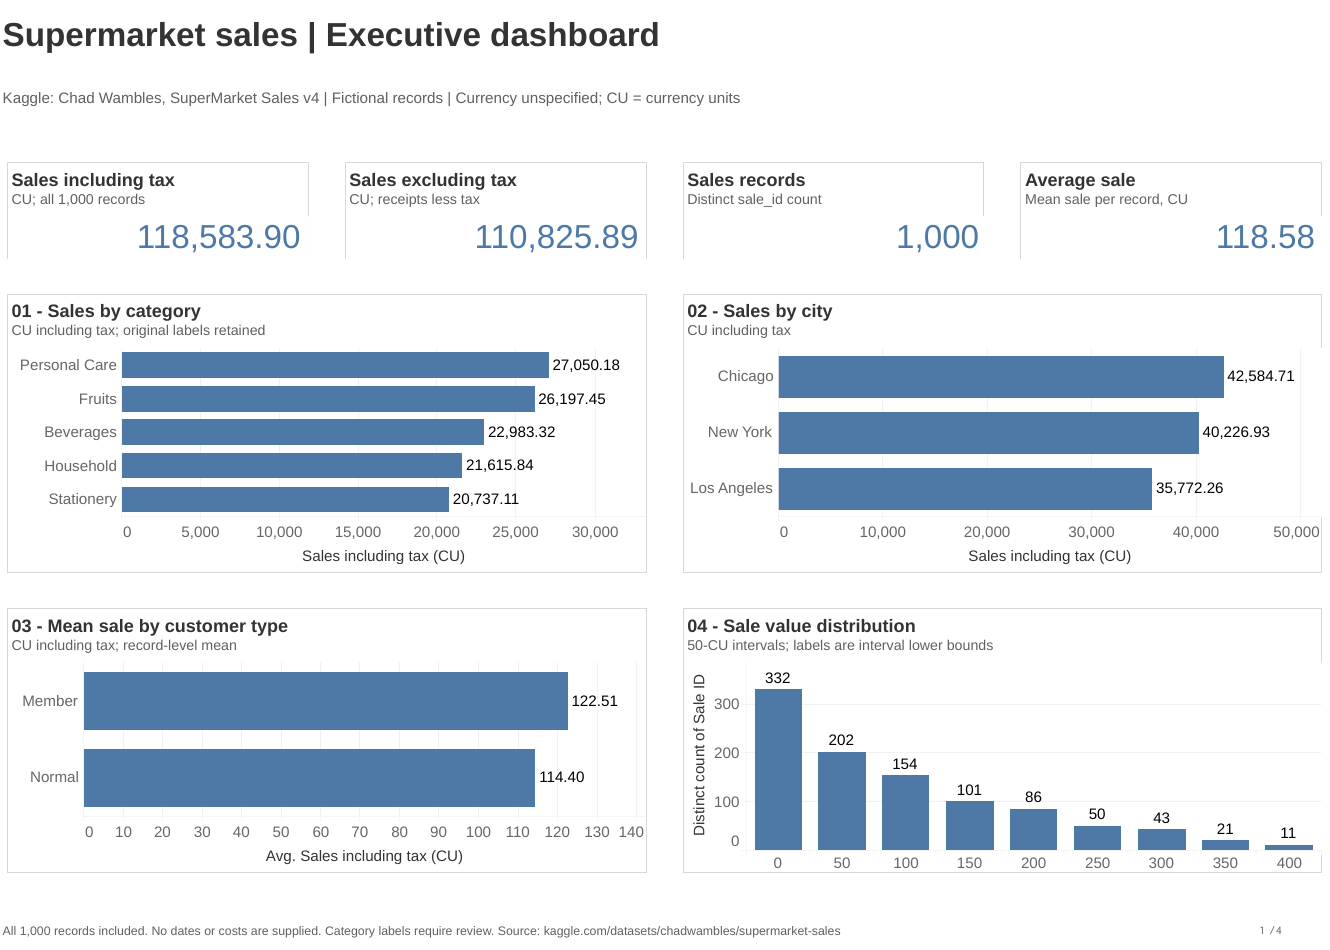

Layout of this report page (visuals, bound fields, positions):
{"tool":"tableau","page":{"name":"Dashboard 1 - Sales overview","canvas":[1400,1000],"ordinal":0},"visuals":[{"type":"text","box":[50,31.9,1300,69.4]},{"type":"text","box":[50,106.9,1300,45.8]},{"type":"worksheet","title":"KPI - Sales including tax","mark":"Text","box":[50,187.5,308.3,109.7]},{"type":"worksheet","title":"KPI - Sales excluding tax","mark":"Text","box":[380.6,187.5,308.3,109.7]},{"type":"worksheet","title":"KPI - Sales records","mark":"Text","box":[711.1,187.5,308.3,109.7]},{"type":"worksheet","title":"KPI - Average sale","mark":"Text","box":[1041.7,187.5,308.3,109.7]},{"type":"worksheet","title":"01 - Sales by category","mark":"Bar","rows":["product_category"],"cols":["total_price"],"box":[50,319.4,638.9,291.7]},{"type":"worksheet","title":"02 - Sales by city","mark":"Bar","rows":["city"],"cols":["total_price"],"box":[711.1,319.4,638.9,291.7]},{"type":"worksheet","title":"03 - Mean sale by customer type","mark":"Bar","rows":["customer_type"],"cols":["total_price"],"box":[50,633.3,638.9,277.8]},{"type":"worksheet","title":"04 - Sale value distribution","mark":"Bar","rows":["sale_id"],"cols":["sale_band"],"box":[711.1,633.3,638.9,277.8]},{"type":"text","box":[50,944.4,1300,36.1]}]}

Visuals, with their boxes in screenshot pixels (x1, y1, x2, y2), scaled from the page's 1400x1000 canvas onto the 1330x950 screenshot:
text: box(48, 30, 1282, 96)
text: box(48, 102, 1282, 145)
"KPI - Sales including tax" worksheet (Text marks): box(48, 178, 340, 282)
"KPI - Sales excluding tax" worksheet (Text marks): box(362, 178, 654, 282)
"KPI - Sales records" worksheet (Text marks): box(676, 178, 968, 282)
"KPI - Average sale" worksheet (Text marks): box(990, 178, 1282, 282)
"01 - Sales by category" worksheet (Bar marks): box(48, 303, 654, 581)
"02 - Sales by city" worksheet (Bar marks): box(676, 303, 1282, 581)
"03 - Mean sale by customer type" worksheet (Bar marks): box(48, 602, 654, 866)
"04 - Sale value distribution" worksheet (Bar marks): box(676, 602, 1282, 866)
text: box(48, 897, 1282, 931)
